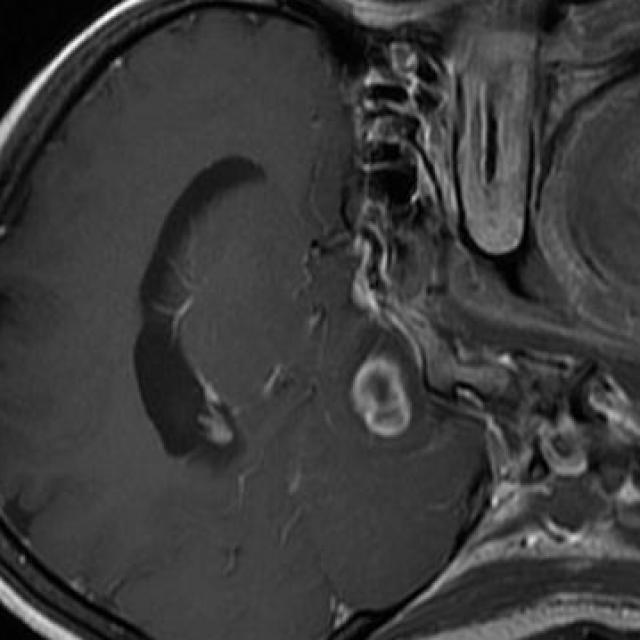glioma: (349, 357, 410, 439)
